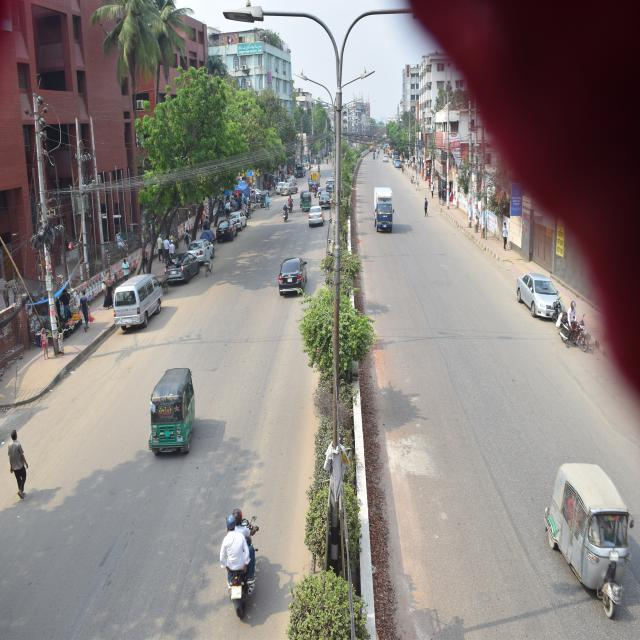car: (511, 269, 562, 318), (274, 254, 306, 307), (161, 247, 197, 285), (186, 235, 223, 258), (214, 216, 234, 246), (308, 202, 324, 235), (228, 208, 246, 231), (274, 179, 285, 192)
microbus: (109, 258, 171, 331)
motorbike: (205, 502, 278, 614), (545, 302, 595, 352), (286, 192, 295, 217), (281, 202, 289, 225)
pickup-van: (366, 176, 396, 236), (309, 168, 324, 188)
